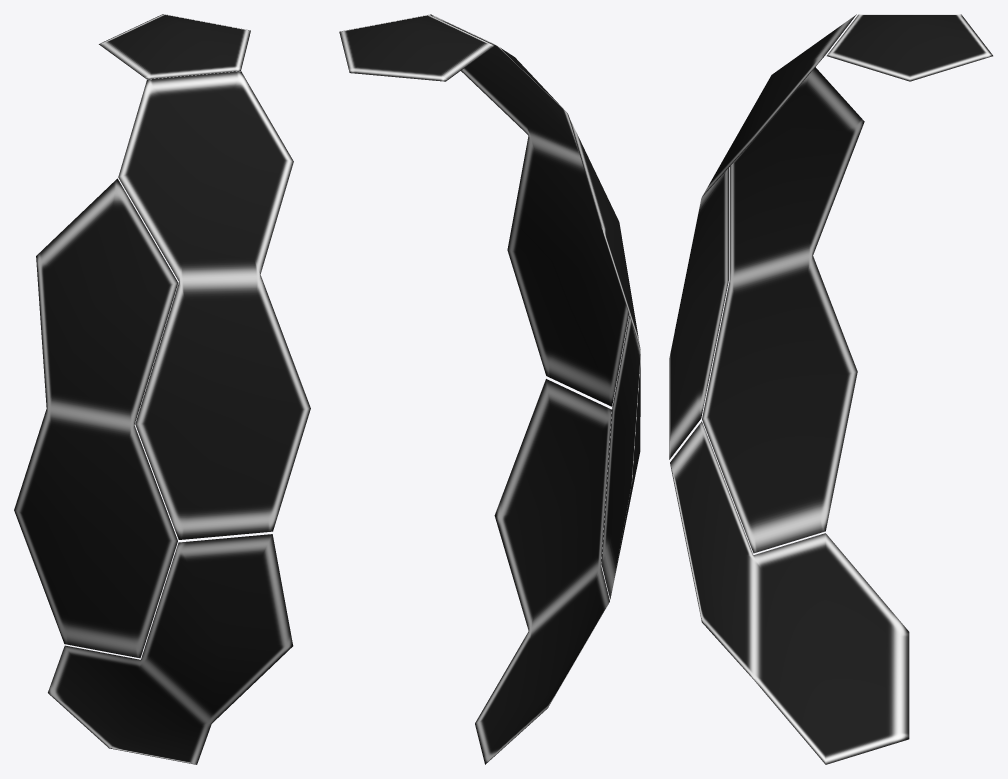
Rendered from Particle_puja_flyingrobot04_attack3_Middle01.FBX.
The picture shows the model from 3 angles, left to right: view 1: azimuth 30°, elevation 25°; view 2: azimuth 150°, elevation 25°; view 3: azimuth 270°, elevation 25°; orthographic projection. The views are drawn at different scales.
Visible parts, largest first — view 1: Object002, Object003, Object004, Object001; view 2: Object004, Object002, Object003, Object001; view 3: Object003, Object004, Object002, Object001.
Boxes of the visible parts, x1=… form: Object002: x1=118, y1=71, x2=310, y2=539; Object003: x1=14, y1=178, x2=178, y2=658; Object004: x1=48, y1=534, x2=293, y2=764; Object001: x1=99, y1=14, x2=250, y2=79; Object004: x1=475, y1=379, x2=611, y2=764; Object002: x1=430, y1=14, x2=628, y2=406; Object003: x1=568, y1=116, x2=640, y2=599; Object001: x1=339, y1=15, x2=494, y2=81; Object003: x1=702, y1=67, x2=864, y2=553; Object004: x1=670, y1=421, x2=909, y2=764; Object002: x1=669, y1=14, x2=856, y2=459; Object001: x1=827, y1=14, x2=992, y2=81.
Size of the model in its own units: 29.98 by 77.54 by 30.03.
